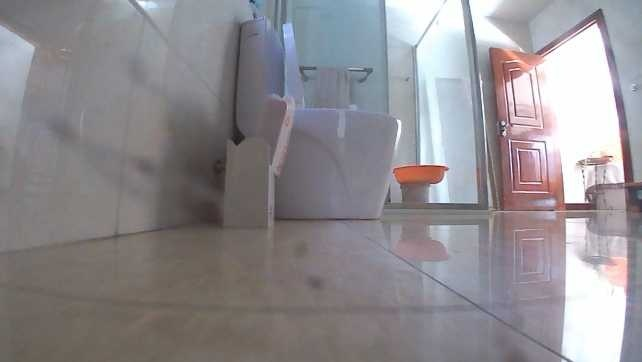door_anno: (486, 44, 564, 212)
toilet: (231, 14, 404, 222)
